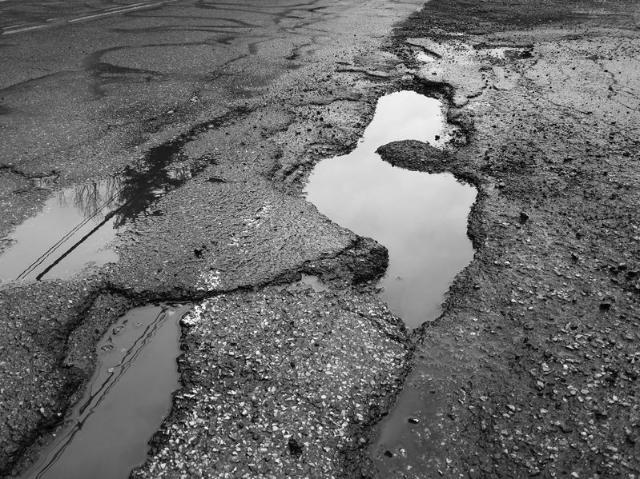Pothole: (293, 77, 489, 348), (1, 273, 258, 479), (384, 31, 532, 66)
